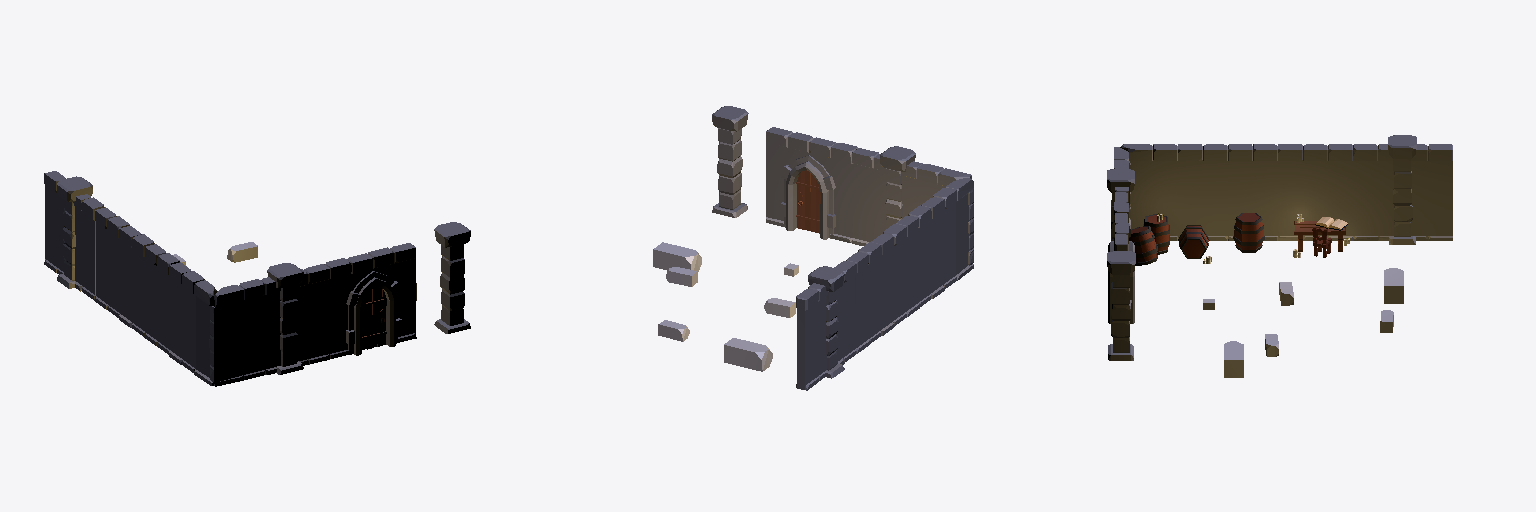
The picture shows the model from 3 angles: view 1: azimuth 30°, elevation 25°; view 2: azimuth 150°, elevation 25°; view 3: azimuth 270°, elevation 25°; orthographic projection.
Visible parts, largest first — view 1: Wall5.002_Untitled.016; view 2: Wall5.002_Untitled.016; view 3: Wall5.002_Untitled.016.
Part boxes in pixels (x1,y1,x2,y2): Wall5.002_Untitled.016: (44,171,470,386); Wall5.002_Untitled.016: (653,106,973,390); Wall5.002_Untitled.016: (1107,135,1452,377).
Bounding box in the file's own units: 7.66 × 3.13 × 8.64.
1 materials, 1 textured.